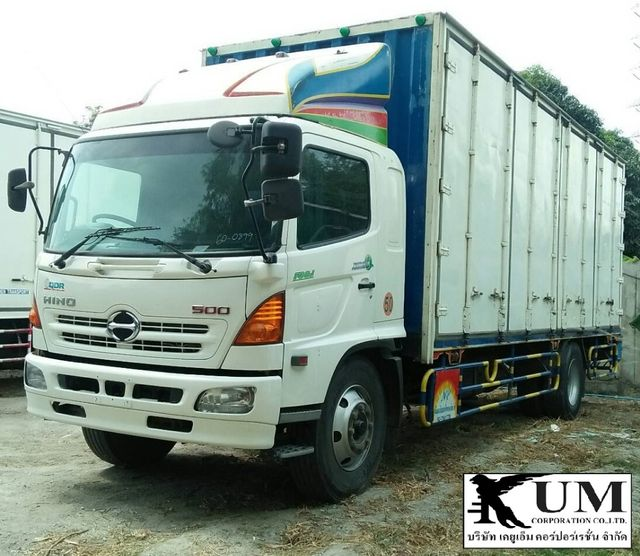truck: (26, 12, 626, 457)
